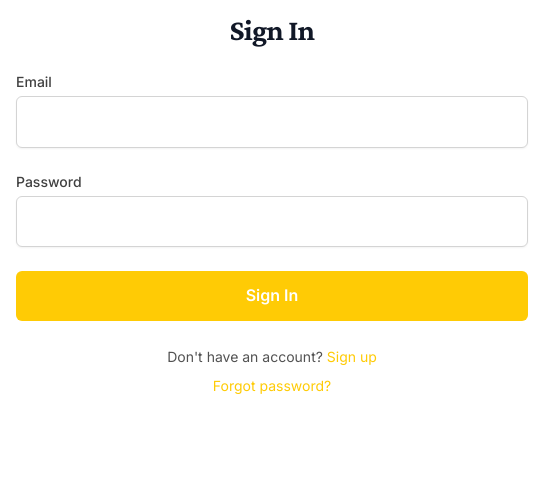
Test case: AuthForm sign in › shows the Supabase error for wrong credentials
In the field labelled "Email": point(272, 122) [16,96,528,148], type "owner@example.com"
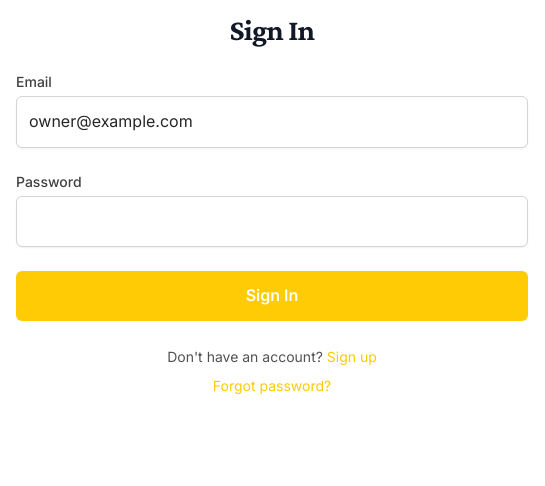
In the password field labelled "Password": point(272, 221) [16,196,528,247], type "longenough1"
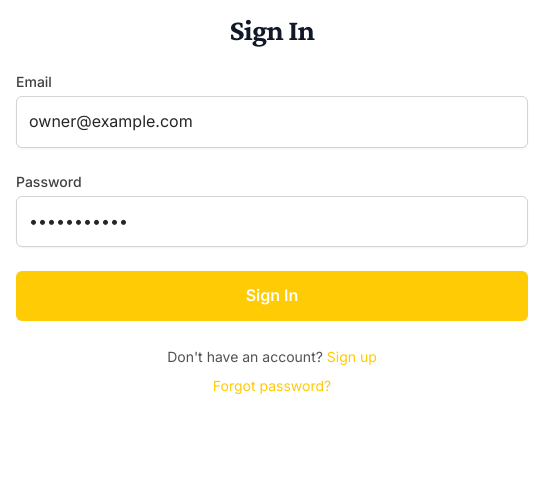
Submit the form labelled "Email"
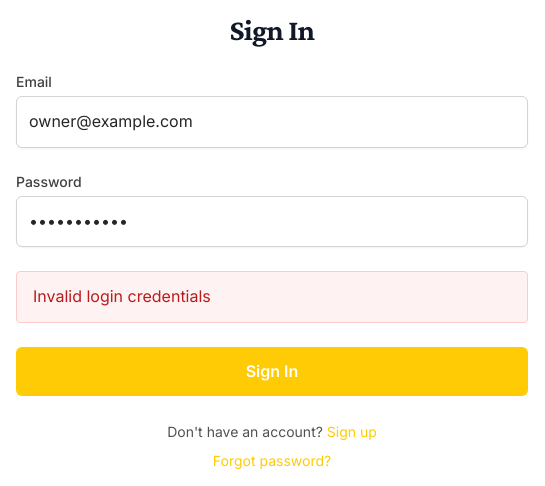
Check: the text "Invalid login credentials" is shown, box [16,271,528,323]
